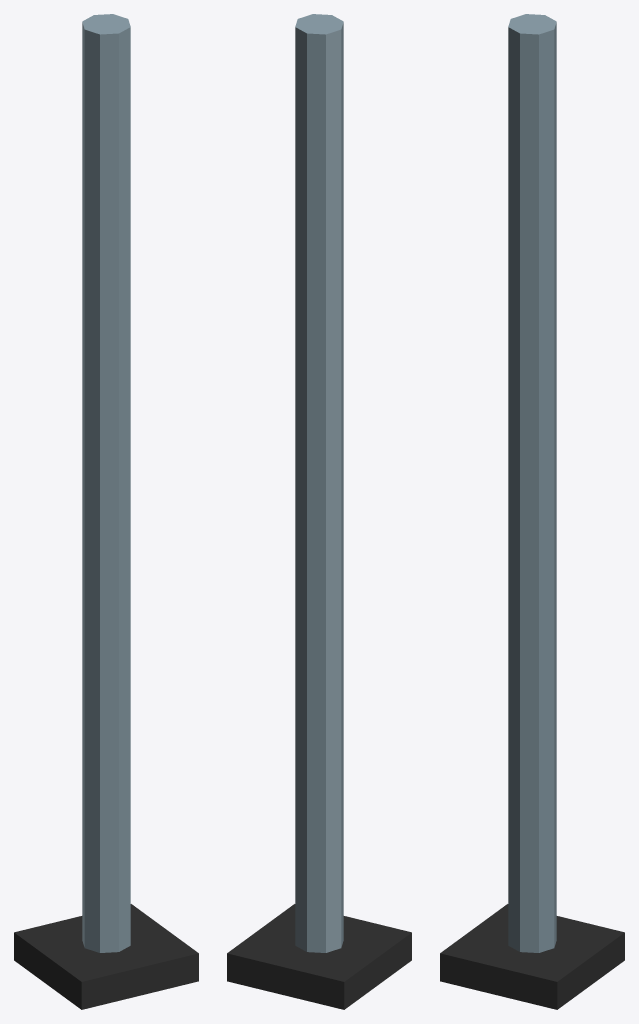
The model's file is N05_Support.fbx.
3 renders of one model, left to right at view 1: azimuth 30°, elevation 25°; view 2: azimuth 150°, elevation 25°; view 3: azimuth 330°, elevation 25°, orthographic.
Visible parts, largest first — view 1: N05_Support.001; view 2: N05_Support.001; view 3: N05_Support.001.
Part boxes in pixels (x1,y1,x2,y2): N05_Support.001: [14, 14, 198, 1009]; N05_Support.001: [227, 14, 411, 1009]; N05_Support.001: [440, 14, 624, 1009].
Size of the model in its own units: 0.35 by 2.7 by 0.35.
